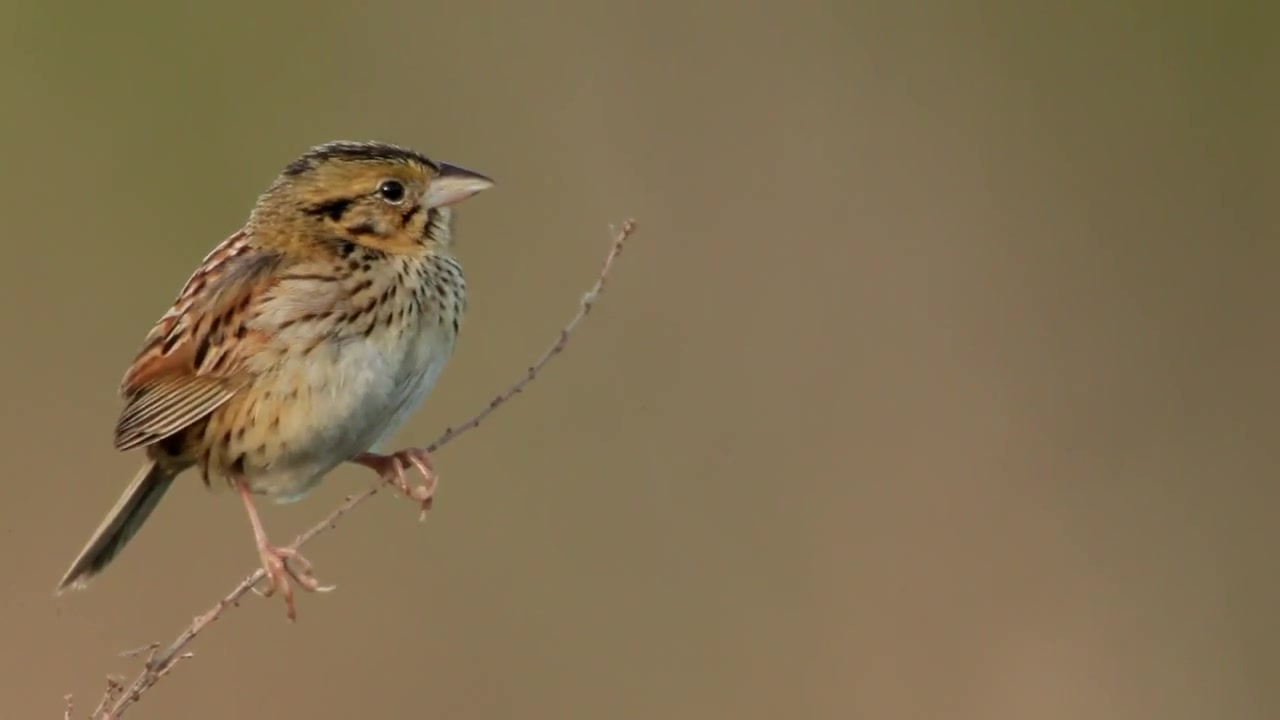bird: (58, 139, 501, 623)
